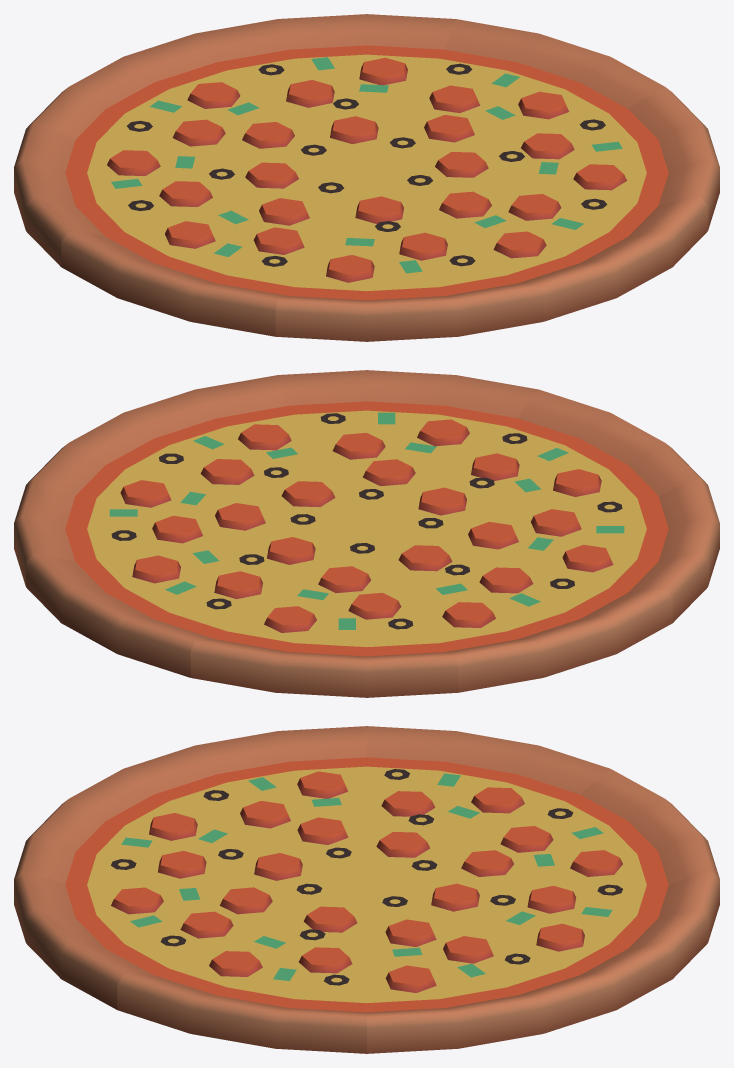
The model's file is whole-pizza.glb.
3 views of the same model, one above another, from view 1: azimuth 30°, elevation 25°; view 2: azimuth 150°, elevation 25°; view 3: azimuth 270°, elevation 25° (orthographic).
Visible parts, largest first — view 1: whole-pizza; view 2: whole-pizza; view 3: whole-pizza.
Part boxes in pixels (x1,y1,x2,y2): whole-pizza: [14, 14, 719, 341]; whole-pizza: [14, 370, 719, 697]; whole-pizza: [14, 726, 719, 1053].
Bounding box in the file's own units: 0.68 × 0.0351 × 0.68.
